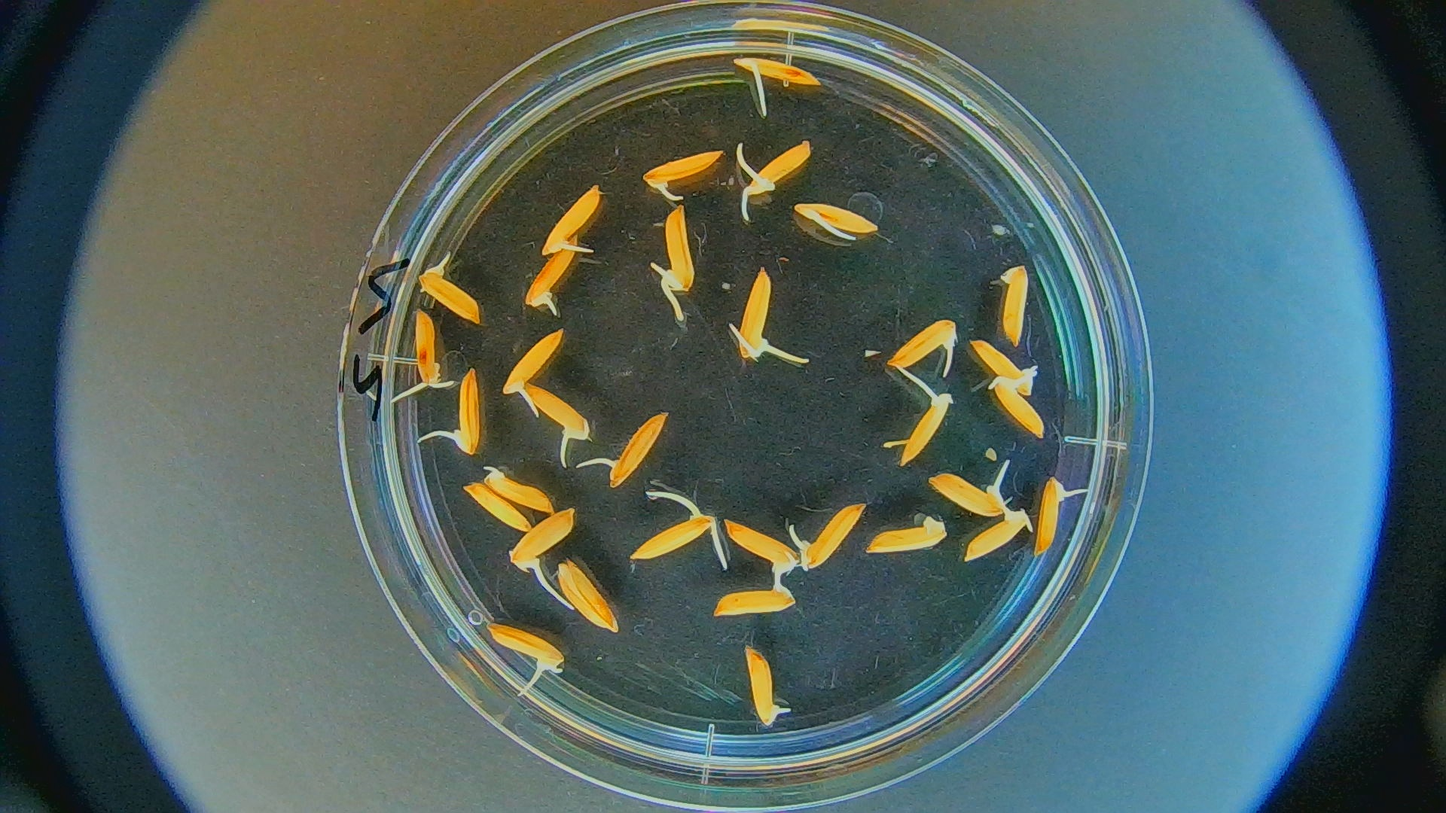no: (556, 558, 621, 633), (455, 481, 534, 534), (862, 516, 947, 559), (990, 264, 1030, 346)
yes: (721, 514, 802, 575), (523, 381, 593, 449), (969, 335, 1037, 396), (609, 416, 666, 487), (405, 309, 452, 393), (509, 512, 578, 569), (541, 190, 602, 254), (734, 269, 776, 361), (801, 507, 864, 568), (929, 469, 1005, 519), (502, 330, 563, 391), (524, 242, 584, 303), (630, 513, 711, 558), (491, 626, 566, 674), (964, 507, 1029, 562), (886, 317, 955, 368), (642, 147, 723, 190), (904, 394, 953, 464), (708, 578, 795, 617), (993, 376, 1047, 437), (731, 53, 819, 90), (421, 271, 483, 323), (659, 208, 697, 292), (741, 644, 781, 721), (482, 474, 551, 517), (746, 145, 811, 190), (795, 202, 881, 236), (1031, 473, 1066, 556), (452, 368, 485, 453)
